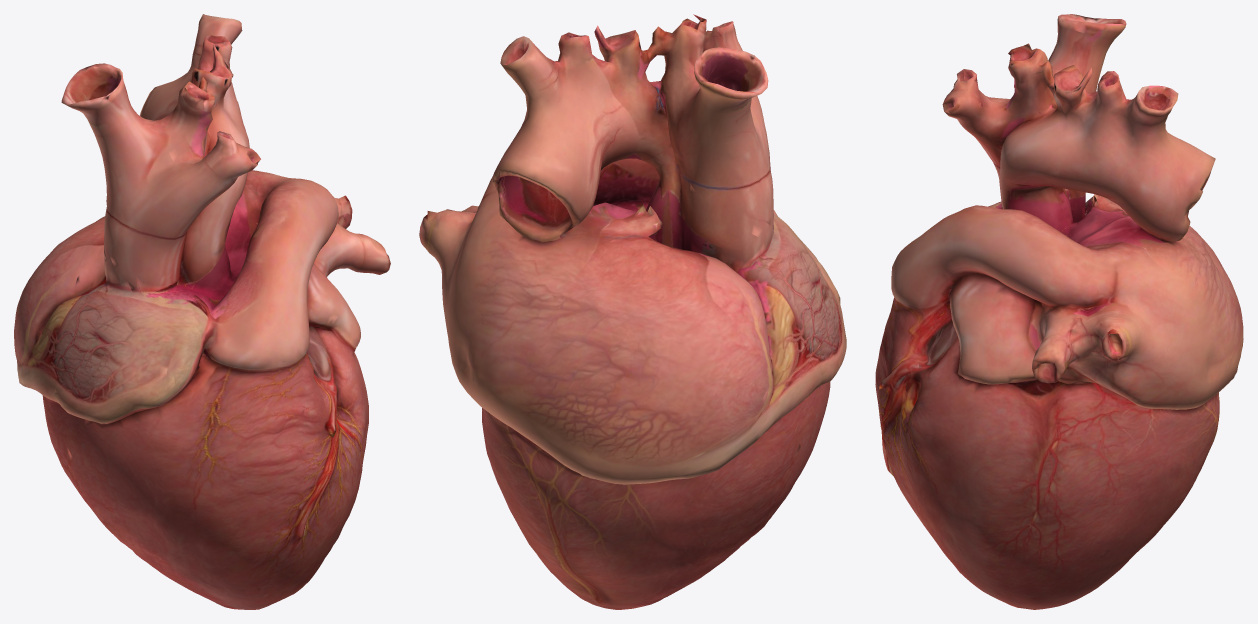
The model's file is stenosisAorticBehaviour.glb.
The picture shows the model from 3 angles, left to right: view 1: azimuth 30°, elevation 25°; view 2: azimuth 150°, elevation 25°; view 3: azimuth 270°, elevation 25°; orthographic projection. The views are drawn at different scales.
Parts seen in each view (by area): view 1: stenosisAorticBehaviour; view 2: stenosisAorticBehaviour; view 3: stenosisAorticBehaviour.
Boxes of the visible parts, box(x1,y1,x2,y2) form: stenosisAorticBehaviour: box(14, 14, 390, 609); stenosisAorticBehaviour: box(419, 14, 846, 609); stenosisAorticBehaviour: box(875, 14, 1243, 609).
Bounding box in the file's own units: 1.28 × 2 × 1.24.
1 material, 1 textured.
